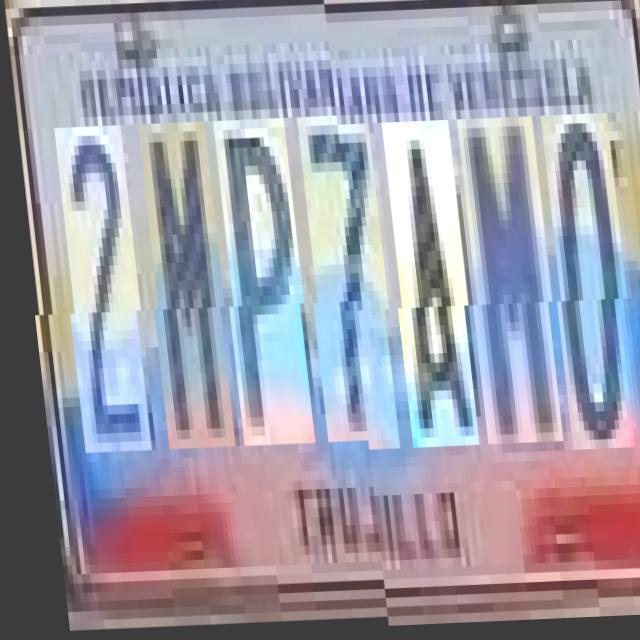2: (52, 135, 146, 462)
7: (295, 127, 394, 454)
A: (379, 124, 473, 451)
M: (454, 121, 557, 448), (136, 132, 230, 460)
O: (538, 118, 633, 454)
P: (211, 130, 310, 457)
